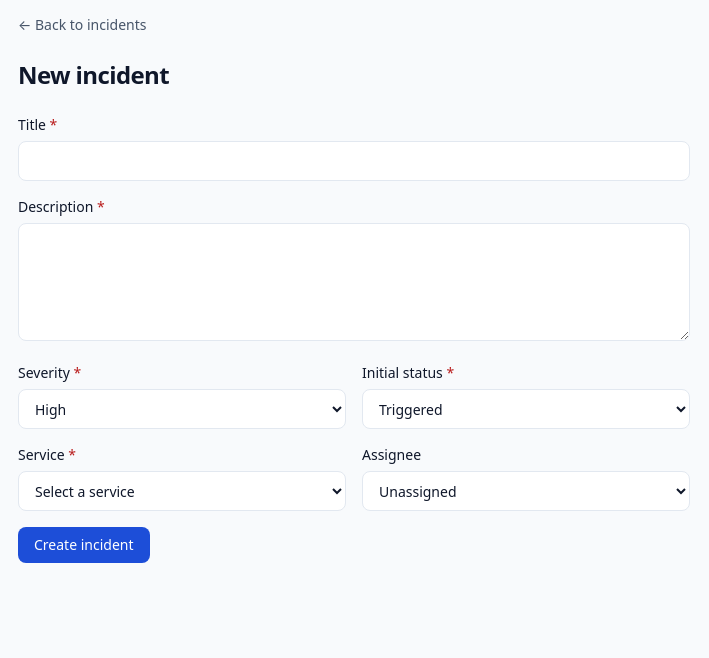
IncidentCreatePage › reports validation errors instead of submitting an empty form
Click the button "Create incident": (84, 545) left=18, top=527, right=150, bottom=563
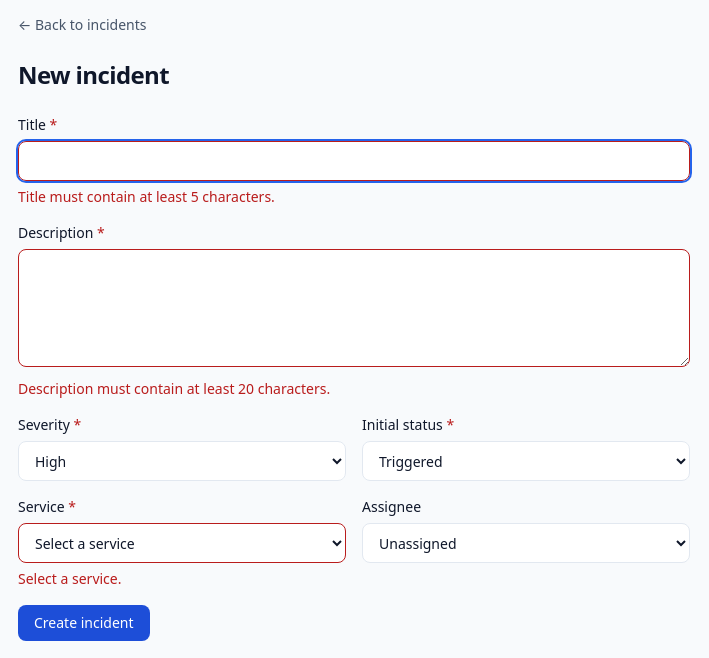
Check: the text "Title must contain at least 5 characters." is shown, box left=18, top=187, right=275, bottom=206
Check: the text "Description must contain at least 20 characters." is shown, box left=18, top=379, right=330, bottom=398
Check: the text "Select a service." is shown, box left=18, top=569, right=122, bottom=588
